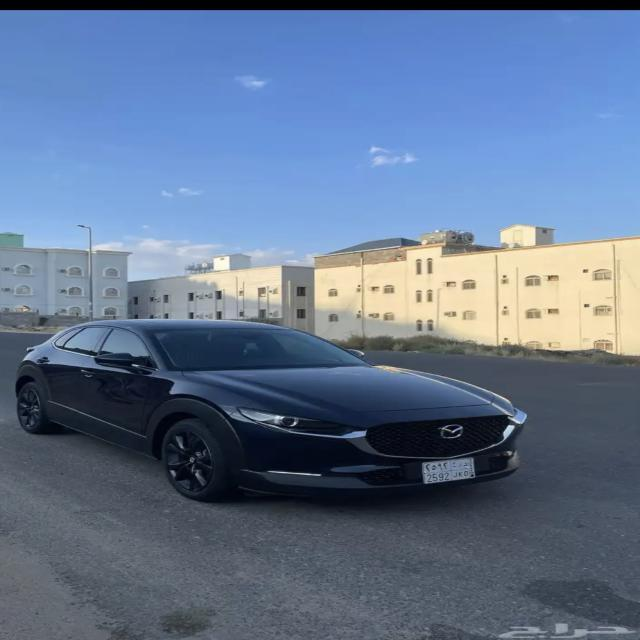license_plate: (421, 458, 477, 484)
